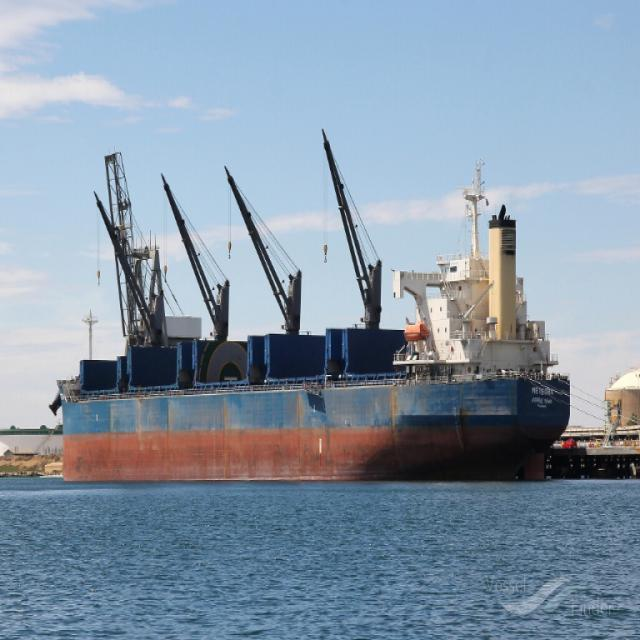OCR: (527, 381, 563, 414)
